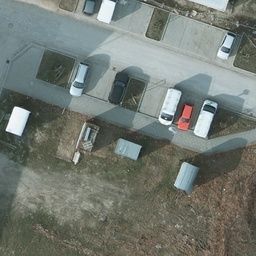car: (69, 62, 89, 96), (107, 73, 128, 103), (176, 100, 193, 133), (217, 34, 235, 61), (79, 0, 106, 16)
van: (194, 99, 223, 139), (158, 83, 181, 126), (92, 0, 126, 25)
